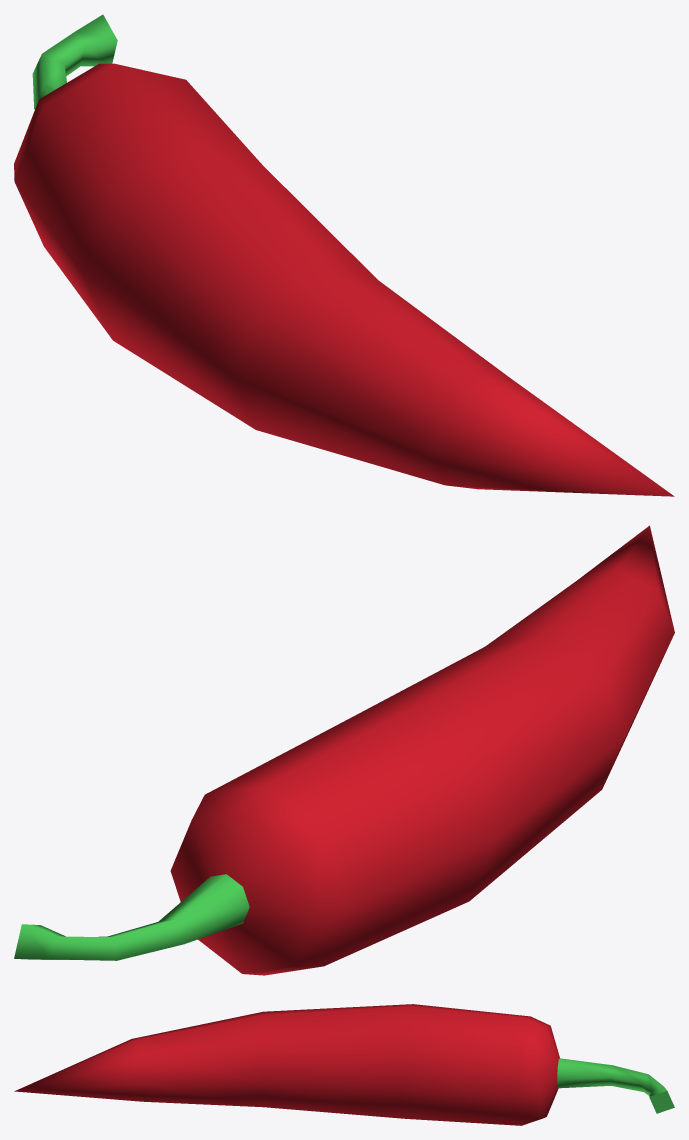
The model's file is Pepper.fbx.
3 renders of one model, top to bottom at view 1: azimuth 30°, elevation 25°; view 2: azimuth 150°, elevation 25°; view 3: azimuth 270°, elevation 25°, orthographic. The views are drawn at different scales.
Parts seen in each view (by area): view 1: Pepper; view 2: Pepper; view 3: Pepper.
Boxes of the visible parts, <box> form: Pepper: <box>14,14,674,496</box>; Pepper: <box>14,525,674,975</box>; Pepper: <box>14,1004,674,1125</box>.
Size of the model in its own units: 63 by 48.13 by 262.
